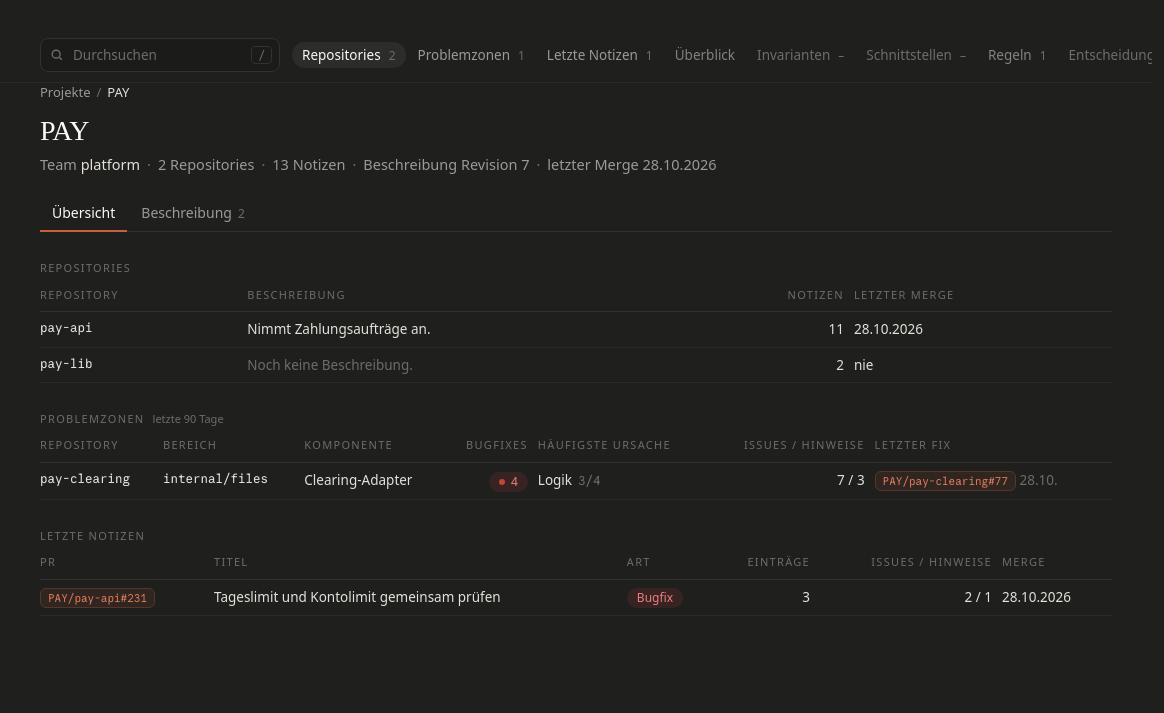
Scenario: ProjectPage › searches the description: typing on the overview goes there
Type "mandant" into the search field named "Beschreibung durchsuchen". click: point(160, 55)
box: [40,38,280,72]
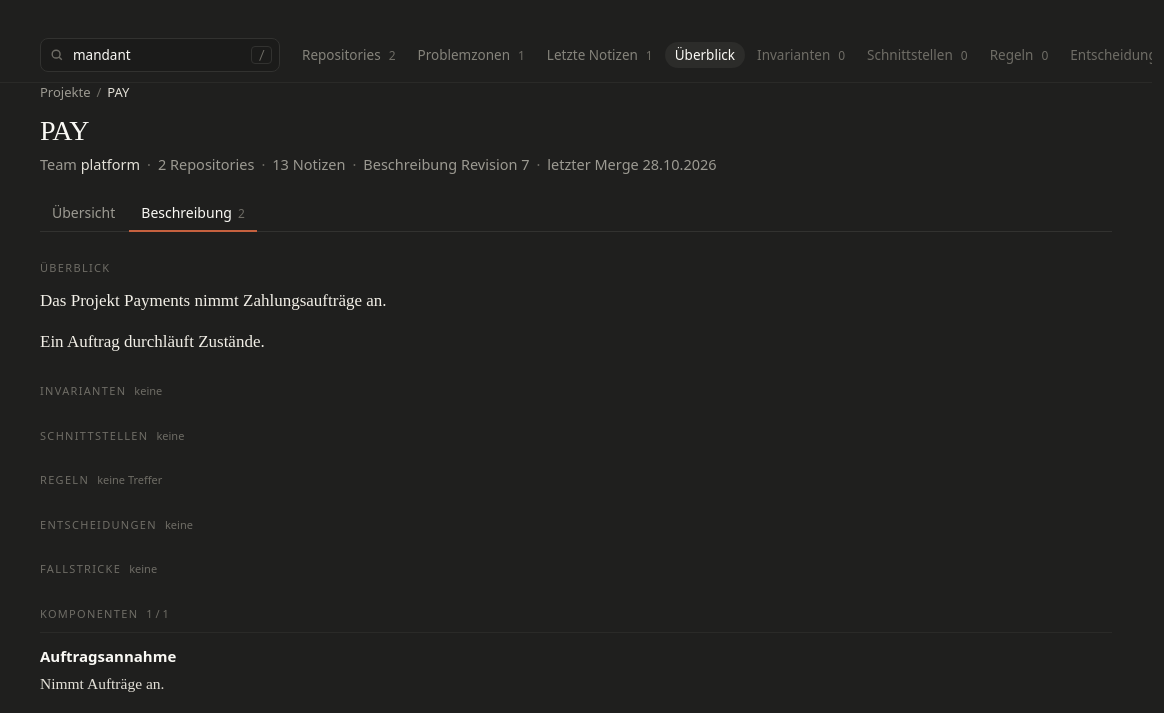
Expected: the text "max_size" is not shown
Now the heading "Auftragsannahme" is shown, box [40,646,176,666]
Now the text "keine Treffer" is shown, box [97,472,162,487]
Press Escape in the search field named "Beschreibung durchsuchen", box [40,38,280,72]
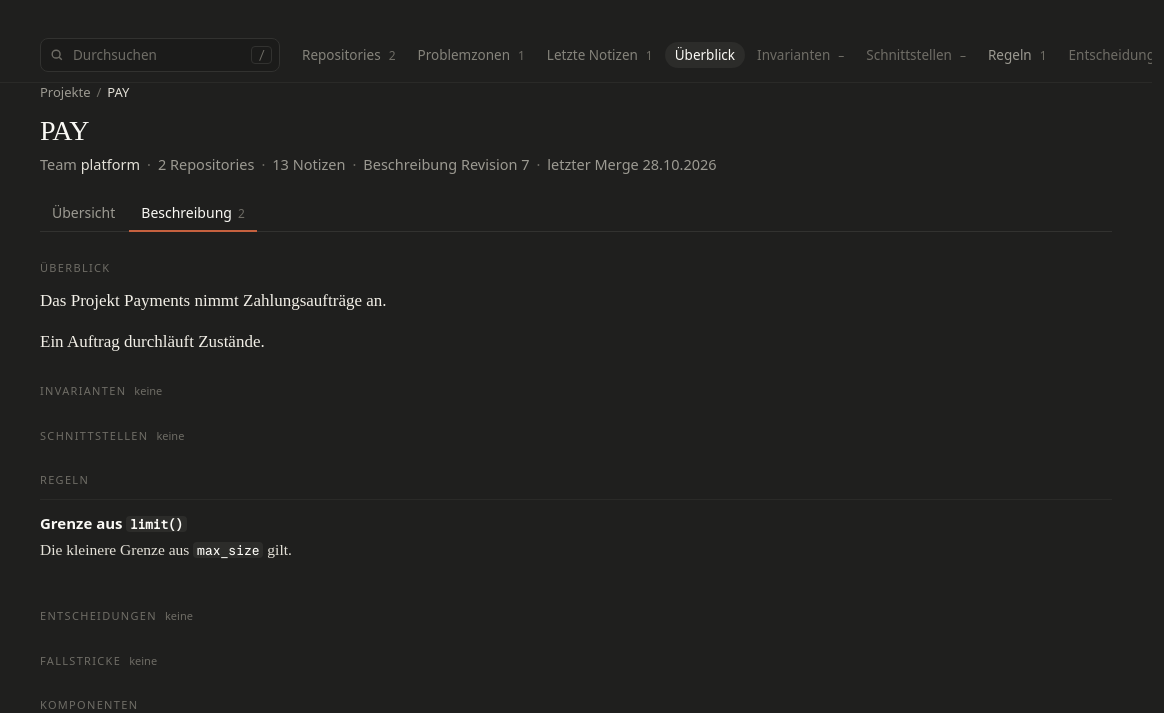
Now the text "max_size" is shown, box [193,542,264,558]
